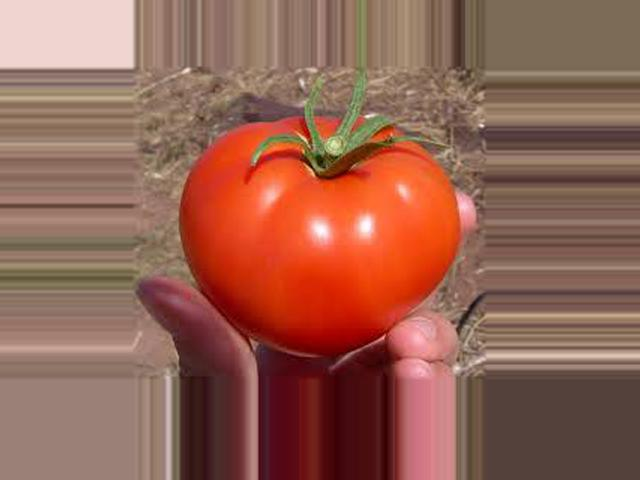tomato: (179, 116, 460, 354)
